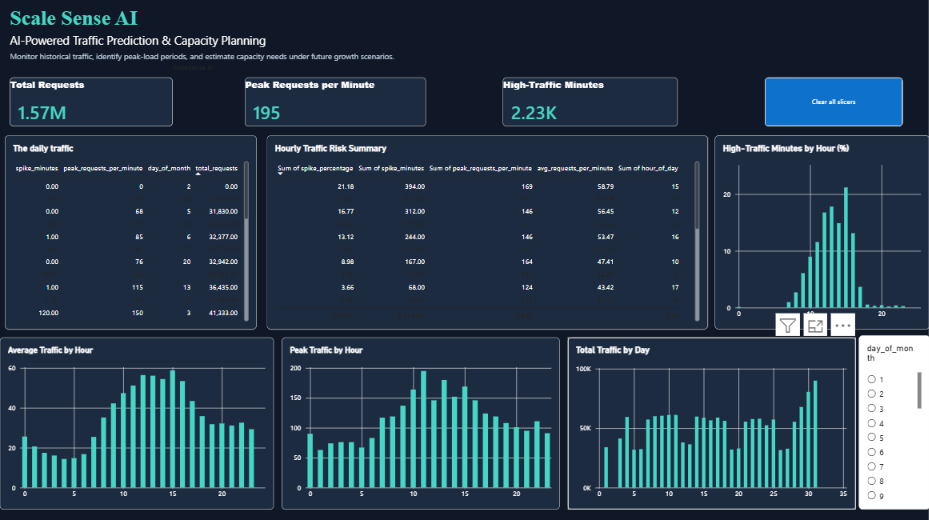

This screenshot's page, from the dashboard's own definition file:
{"tool":"powerbi","page":{"name":"Page 1","canvas":[1920,1080],"ordinal":0},"visuals":[{"type":"clusteredColumnChart","title":"Average Traffic by Hour","fields":{"Category":["scalesense_ai powerbi_traffic_summary.hour_of_day"],"Y":["Avg(scalesense_ai powerbi_traffic_summary.avg_requests_per_minute)"]},"box":[6.2,697.8,564,354],"z":0},{"type":"clusteredColumnChart","title":"Peak Traffic by Hour","fields":{"Category":["scalesense_ai powerbi_traffic_summary.hour_of_day"],"Y":["Sum(scalesense_ai powerbi_traffic_summary.peak_requests_per_minute)"]},"box":[586.6,697.8,572.2,354],"z":1},{"type":"cardVisual","title":"Total Requests","fields":{"Data":["Sum(scalesense_ai powerbi_traffic_summary.total_requests)"]},"box":[26.8,162.6,335.5,100.9],"z":2},{"type":"cardVisual","title":"Peak Requests per Minute","fields":{"Data":["Max(scalesense_ai powerbi_traffic_summary.peak_requests_per_minute)"]},"box":[510.5,162.6,372.6,100.9],"z":3},{"type":"cardVisual","title":"High-Traffic Minutes","fields":{"Data":["Sum(scalesense_ai powerbi_traffic_summary.spike_minutes)"]},"box":[1041.5,162.6,360.2,100.9],"z":4},{"type":"clusteredColumnChart","title":"High-Traffic Minutes by Hour (%)","fields":{"Category":["scalesense_ai powerbi_traffic_summary.hour_of_day"],"Y":["Avg(scalesense_ai powerbi_traffic_summary.spike_percentage)"]},"box":[1477.9,282,442.5,399.3],"z":5},{"type":"clusteredColumnChart","title":"Total Traffic by Day","fields":{"Category":["scalesense_ai daily_traffic_summary.day_of_month"],"Y":["Sum(scalesense_ai daily_traffic_summary.total_requests)"]},"box":[1175.3,697.8,592.8,354],"z":6},{"type":"tableEx","title":"The daily traffic ","fields":{"Values":["scalesense_ai daily_traffic_summary.spike_minutes","scalesense_ai daily_traffic_summary.peak_requests_per_minute","scalesense_ai daily_traffic_summary.day_of_month","scalesense_ai daily_traffic_summary.total_requests"]},"box":[16.5,282,518.7,399.3],"z":8},{"type":"listSlicer","fields":{"Values":["scalesense_ai daily_traffic_summary.day_of_month"]},"box":[1774.3,693.7,146.1,358.1],"z":9},{"type":"actionButton","box":[1580.8,162.6,284,100.9],"z":10},{"type":"tableEx","title":"Hourly Traffic Risk Summary","fields":{"Values":["Sum(scalesense_ai powerbi_traffic_summary.spike_percentage)","Sum(scalesense_ai powerbi_traffic_summary.spike_minutes)","Sum(scalesense_ai powerbi_traffic_summary.peak_requests_per_minute)","scalesense_ai powerbi_traffic_summary.avg_requests_per_minute","Sum(scalesense_ai powerbi_traffic_summary.hour_of_day)"]},"box":[555.7,282,907.7,399.3],"z":11},{"type":"textbox","box":[363,132,193,150],"z":12},{"type":"textbox","box":[26.8,14.4,1014.8,55.6],"z":13},{"type":"textbox","box":[26.8,70,1613.7,37],"z":14},{"type":"textbox","box":[26.8,107,1869,43.2],"z":15}]}

Visuals, with their boxes in screenshot pixels (x1, y1, x2, y2), scaled from the page's 1920x1080 canvas onto the 929x520 screenshot:
"Average Traffic by Hour" clusteredColumnChart: region(3, 336, 276, 506)
"Peak Traffic by Hour" clusteredColumnChart: region(284, 336, 561, 506)
"Total Requests" cardVisual: region(13, 78, 175, 127)
"Peak Requests per Minute" cardVisual: region(247, 78, 427, 127)
"High-Traffic Minutes" cardVisual: region(504, 78, 678, 127)
"High-Traffic Minutes by Hour (%)" clusteredColumnChart: region(715, 136, 928, 328)
"Total Traffic by Day" clusteredColumnChart: region(569, 336, 856, 506)
"The daily traffic " tableEx: region(8, 136, 259, 328)
listSlicer - scalesense_ai daily_traffic_summary.day_of_month: region(859, 334, 928, 506)
actionButton: region(765, 78, 902, 127)
"Hourly Traffic Risk Summary" tableEx: region(269, 136, 708, 328)
textbox: region(176, 64, 269, 136)
textbox: region(13, 7, 504, 34)
textbox: region(13, 34, 794, 52)
textbox: region(13, 52, 917, 72)
